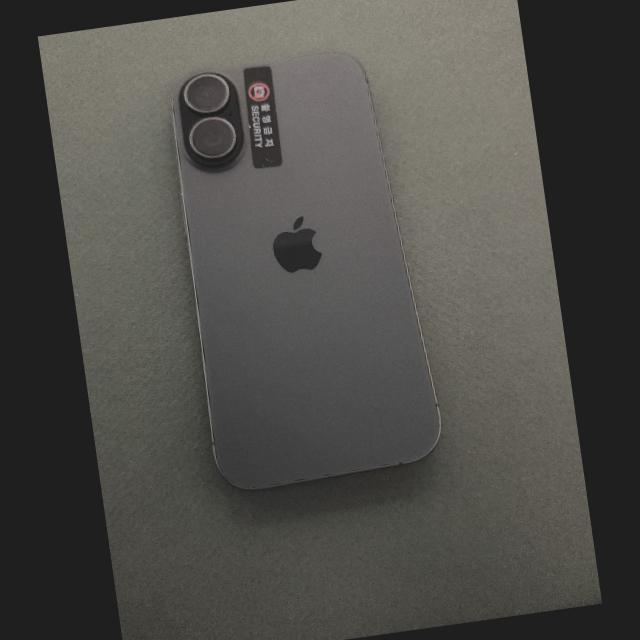lens: (191, 116, 235, 158), (185, 73, 228, 115)
phone: (172, 54, 440, 490)
sticker: (243, 67, 283, 168)
